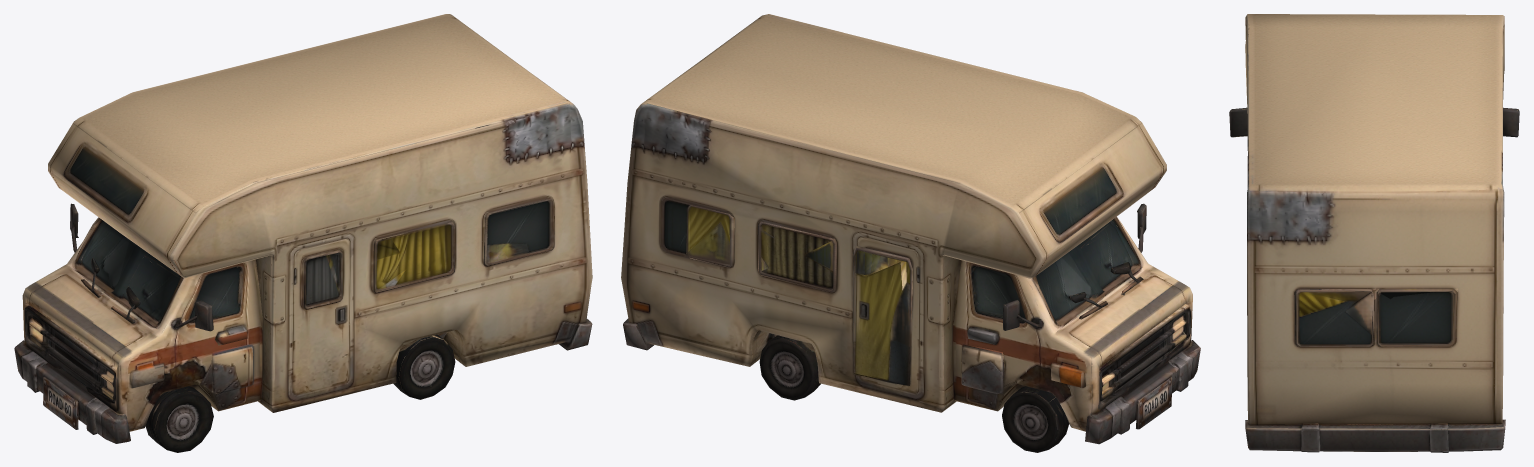
File: Meshy_AI_Road_80_Camper_0912145325_texture.fbx
3 renders of one model, left to right at view 1: azimuth 30°, elevation 25°; view 2: azimuth 150°, elevation 25°; view 3: azimuth 270°, elevation 25°, orthographic. The views are drawn at different scales.
Visible parts, largest first — view 1: Mesh_0; view 2: Mesh_0; view 3: Mesh_0.
Boxes of the visible parts, left/top/right/bottom form: Mesh_0: left=14, top=14, right=592, bottom=452; Mesh_0: left=621, top=14, right=1200, bottom=452; Mesh_0: left=1229, top=14, right=1519, bottom=452.
Size of the model in its own units: 100 by 53.71 by 51.37.
Materials: 1 (1 with a texture image).
